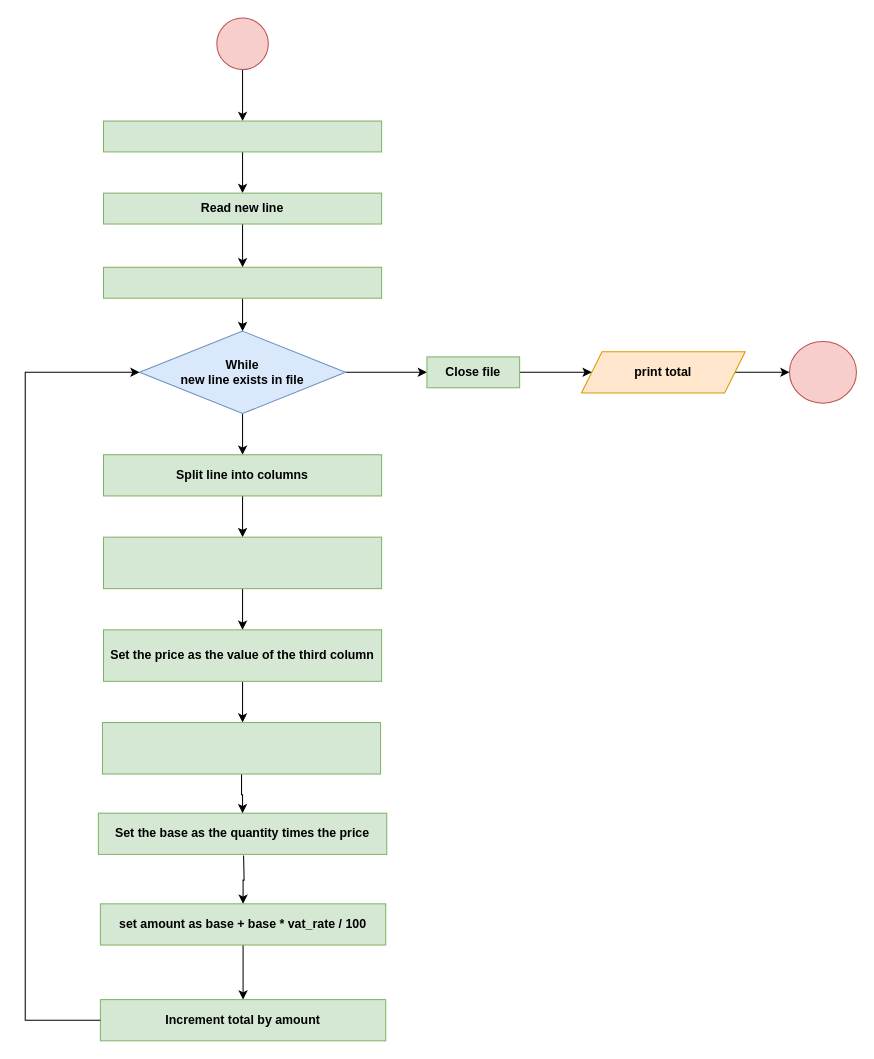
Image size: 874x1059. Some labels were removed from this diagram. The centre of each missing label's shape, as x and y in pixels:
"init the total as 0" belongs at point 242,282.
"Open file" belongs at point 242,136.
"Set the quantity as the value of the first column" belongs at point 242,562.
"Set the vat rate as the value of the fourth column" belongs at point 241,748.
